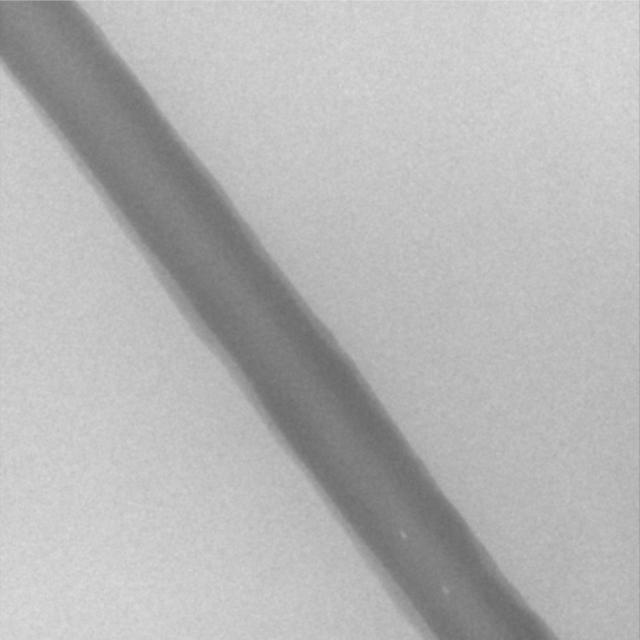air hole: (439, 584, 450, 596), (397, 529, 407, 539)
